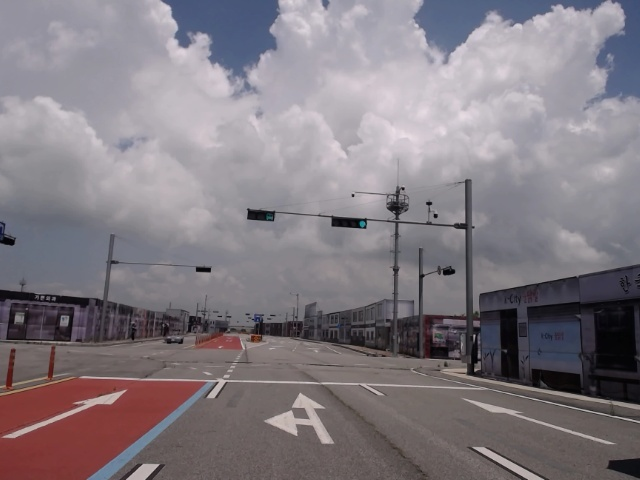straight_green_4: (330, 216, 367, 231)
